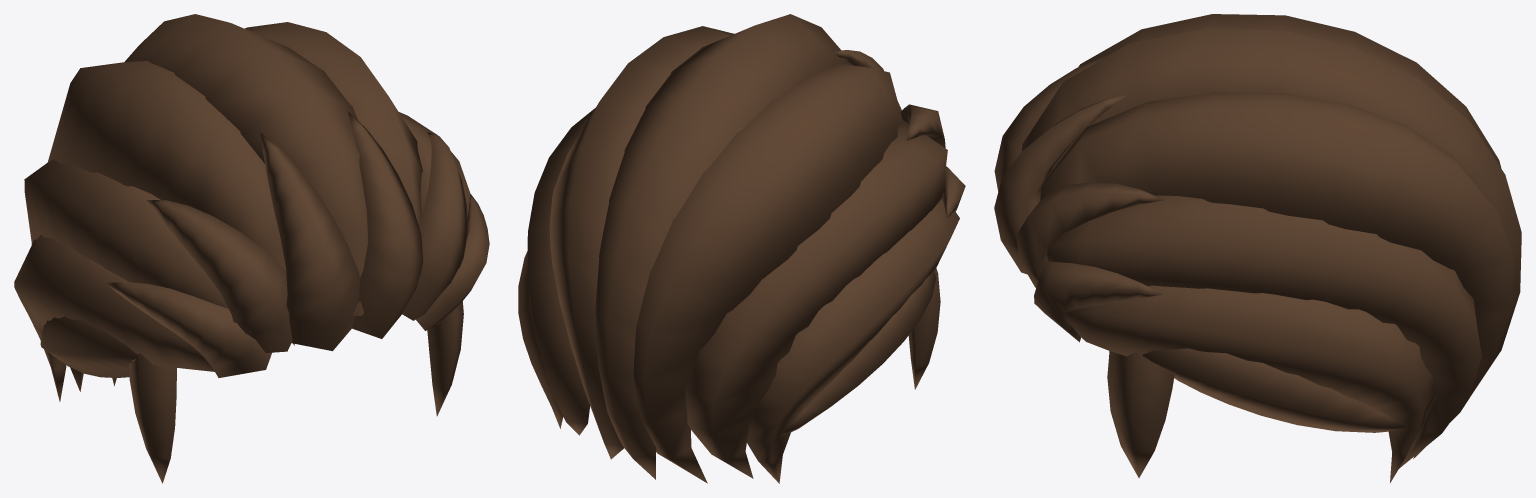
File: umm_casual_hoodie.glb
The picture shows the model from 3 angles, left to right: view 1: azimuth 30°, elevation 25°; view 2: azimuth 150°, elevation 25°; view 3: azimuth 270°, elevation 25°; orthographic projection. The views are drawn at different scales.
Visible parts, largest first — view 1: Casual_Hoodie; view 2: Casual_Hoodie; view 3: Casual_Hoodie.
Part boxes in pixels (<box>): Casual_Hoodie: <box>14,14,489,483</box>; Casual_Hoodie: <box>518,14,965,483</box>; Casual_Hoodie: <box>994,14,1521,482</box>.
Bounding box in the file's own units: 0.2088 × 0.2169 × 0.2506.
